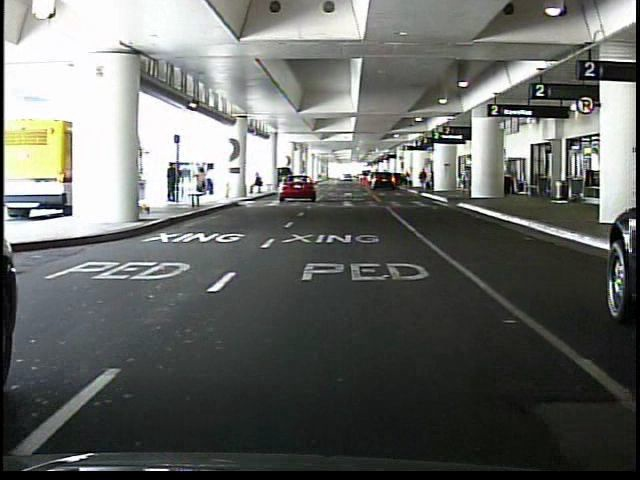person: (166, 162, 180, 205), (460, 164, 472, 196), (248, 172, 264, 196), (419, 167, 428, 192)
